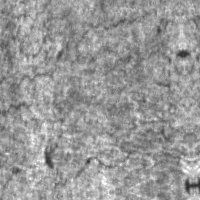crazing: (38, 70, 191, 188), (0, 0, 165, 92), (0, 93, 45, 199)
